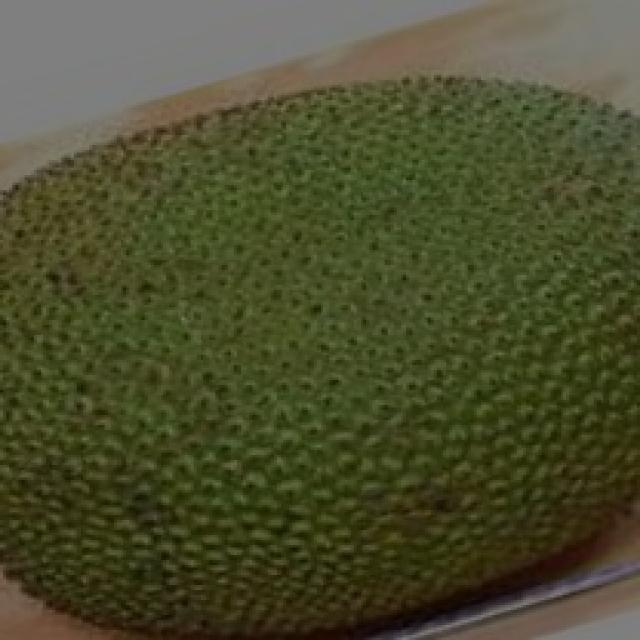Fruit: (289, 255, 637, 640), (252, 23, 640, 325)
